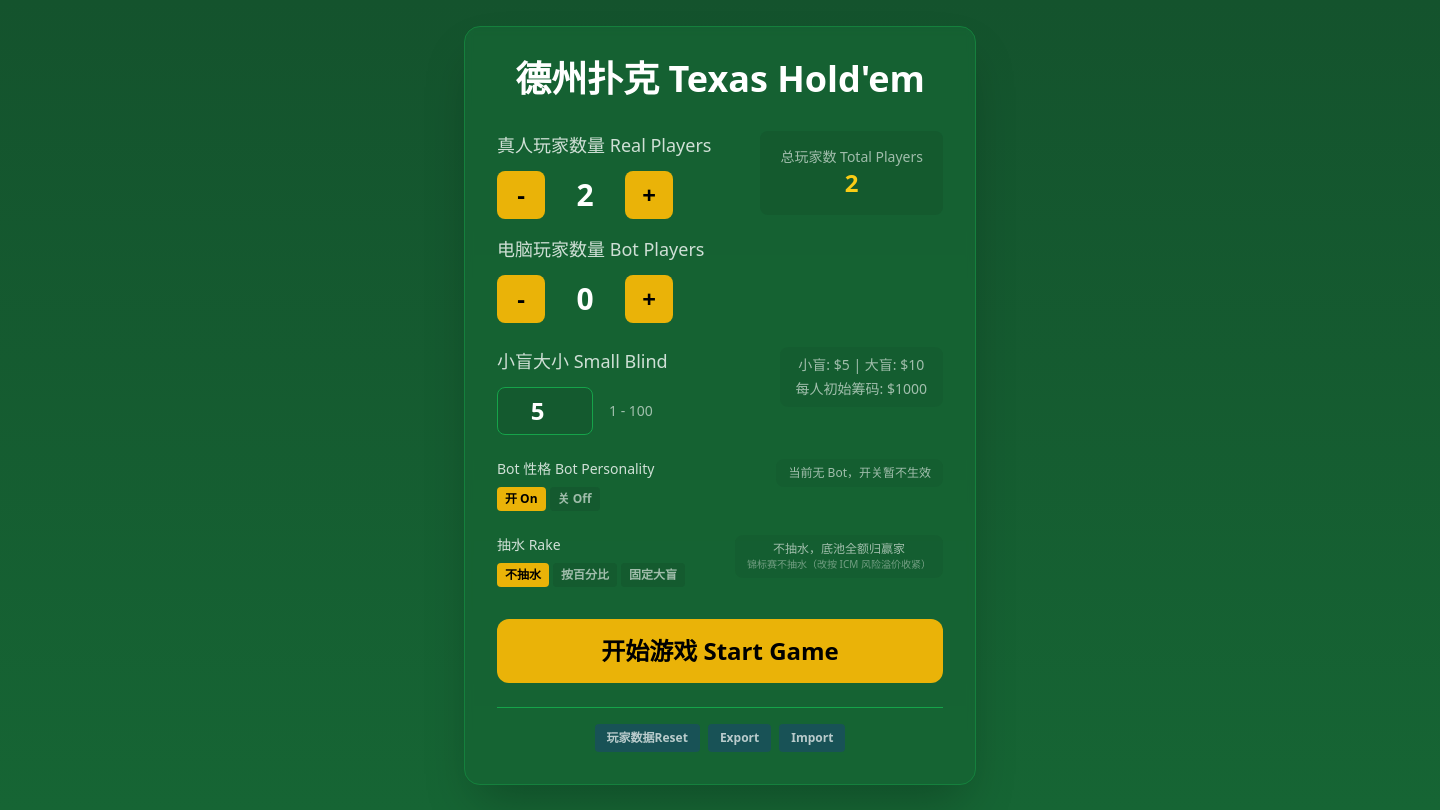
Test: StartPage 抽水配置 › 切回百分比模式时封顶值还在（状态没被清掉）
Click the button "按百分比". click: (585, 574)
box: [553,562,617,586]
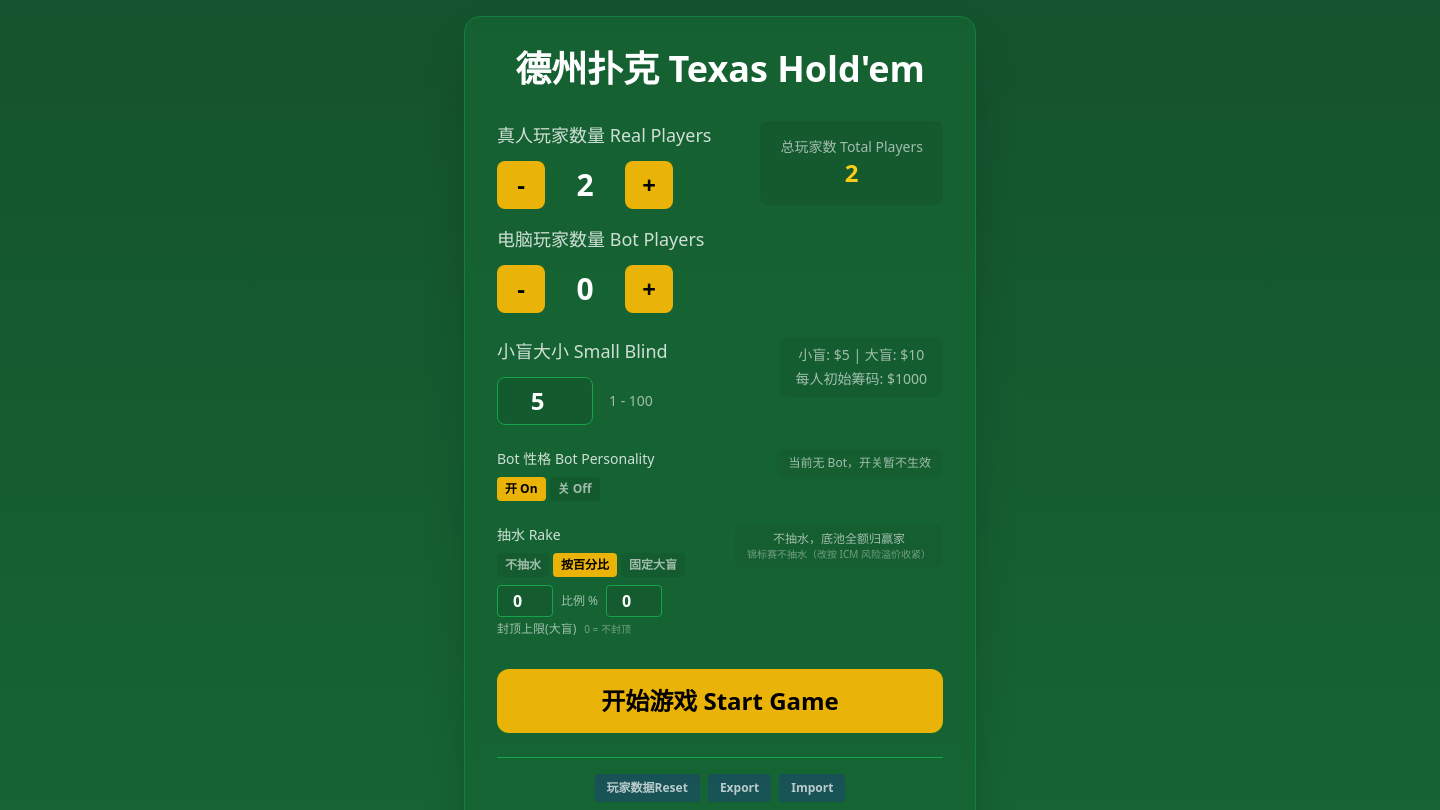
Replace the text in the number field named "抽水封顶上限（大盲）" with "3". click: (634, 601)
box: [606,585,662,617]
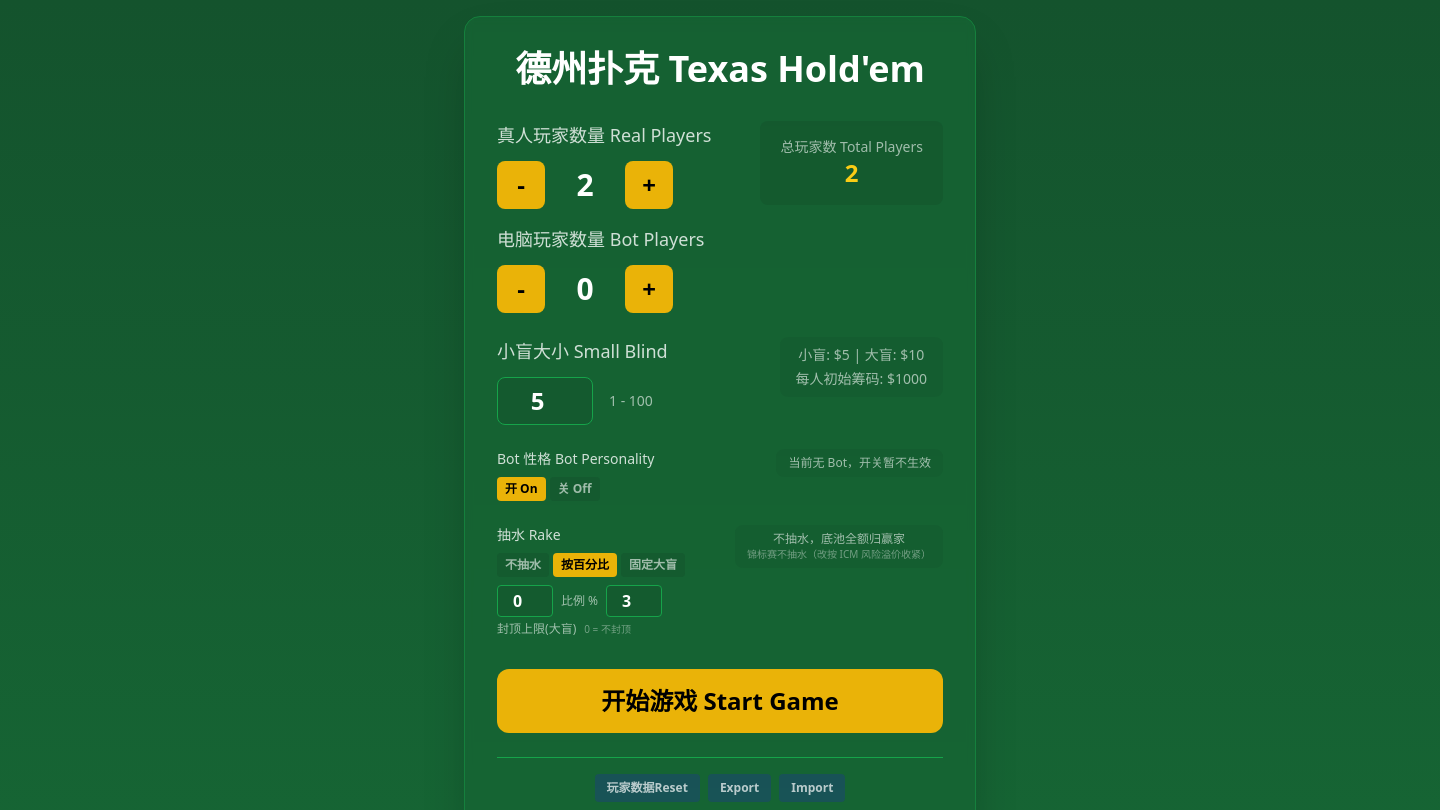
Click the button "固定大盲". click: (653, 565)
box: [621,553,685,577]
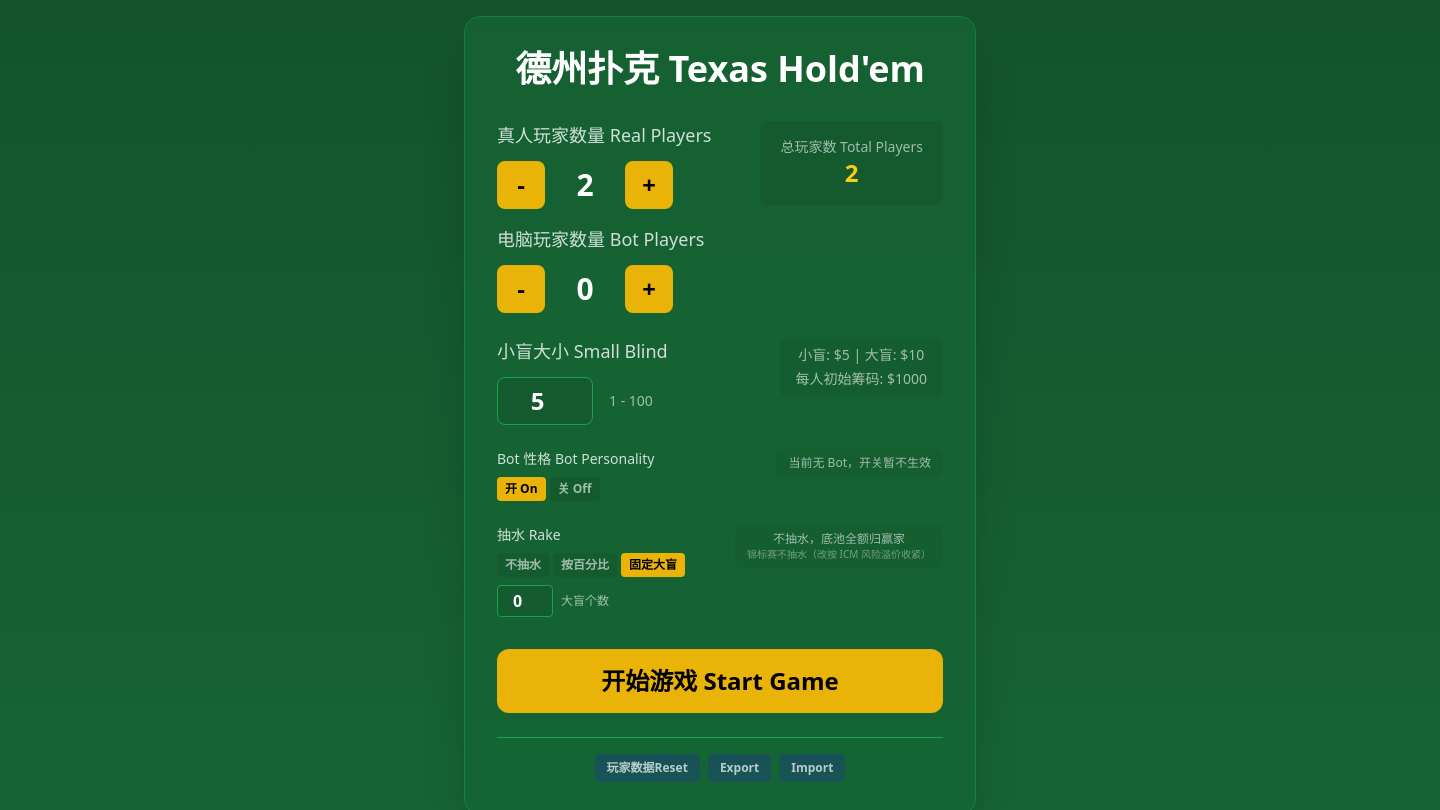
Click the button "按百分比". click: (585, 565)
box: [553,553,617,577]
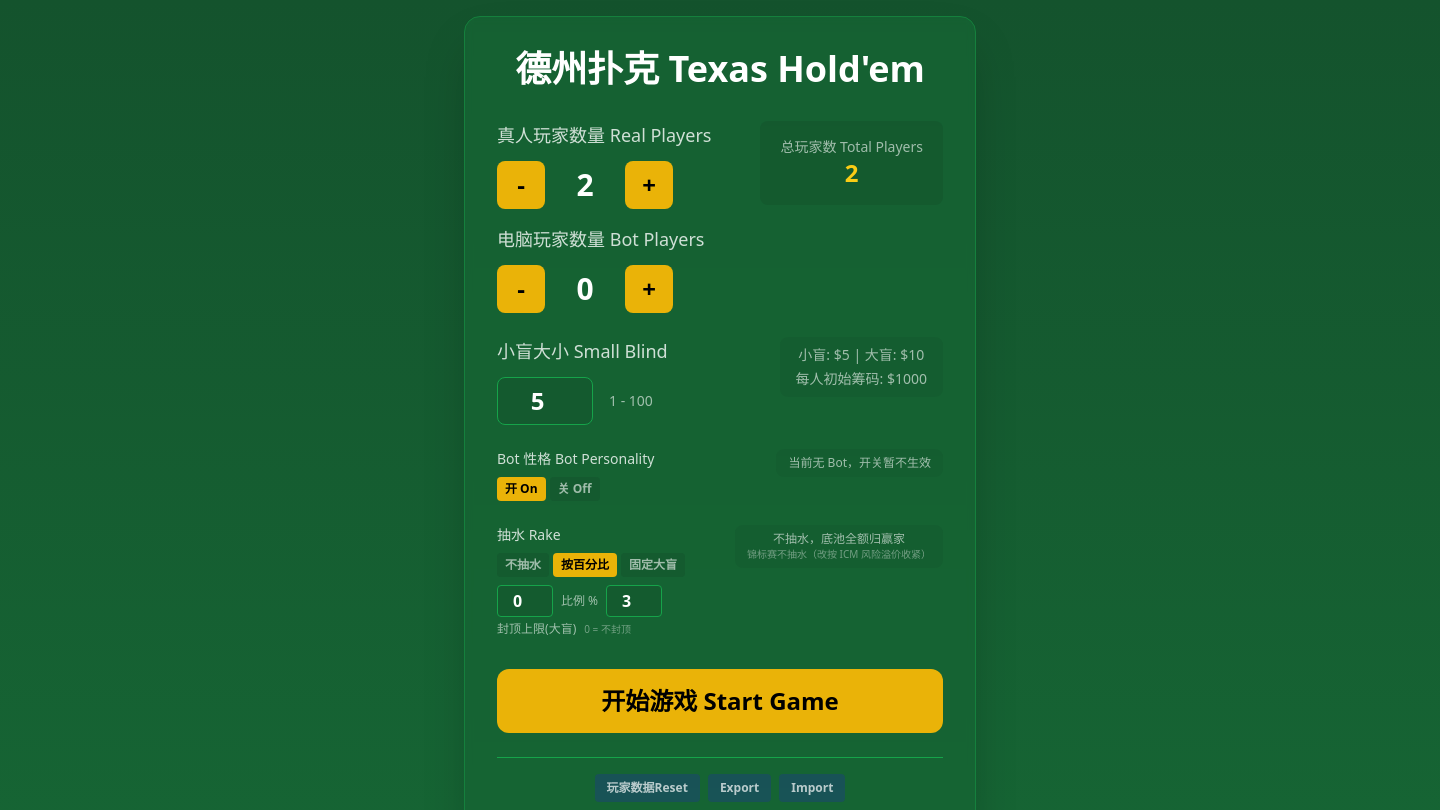
expect the number field named "抽水封顶上限（大盲）" holds "3": met, box [606,585,662,617]
